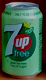sevenup: (2, 3, 42, 78)
